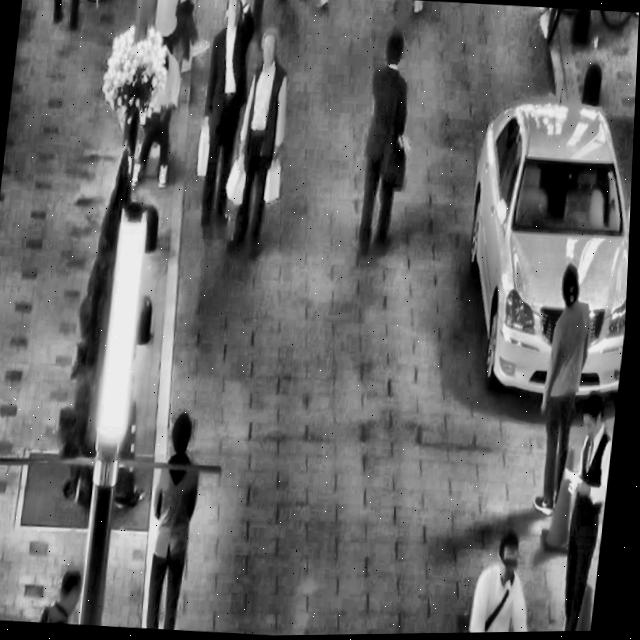light_vehicle: (448, 77, 637, 410)
